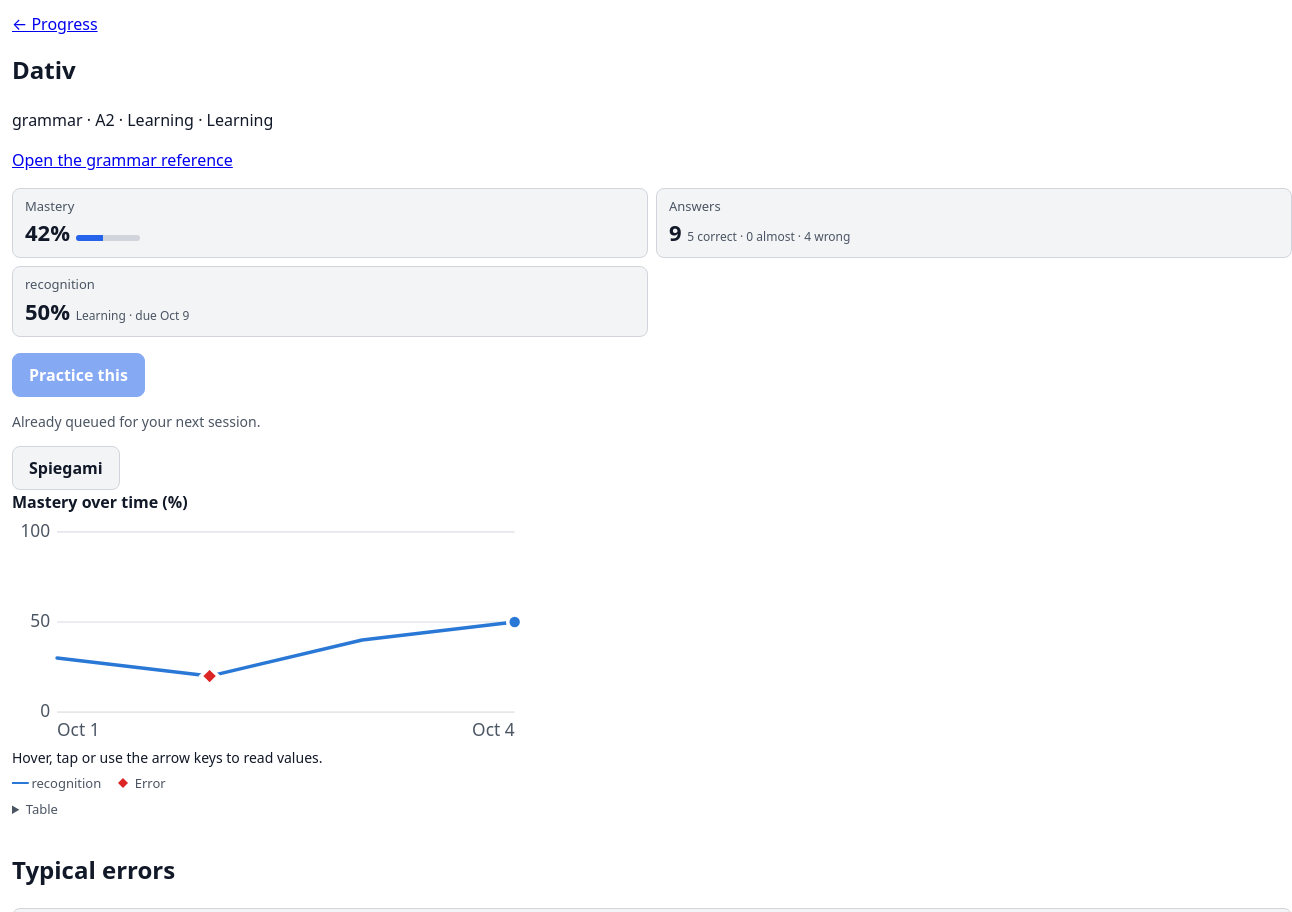
progress item detail › explains grammar without a mistake through the grammar endpoint and shows a queued state
Click the button "Spiegami" at (66,468), box [12,446,120,490]
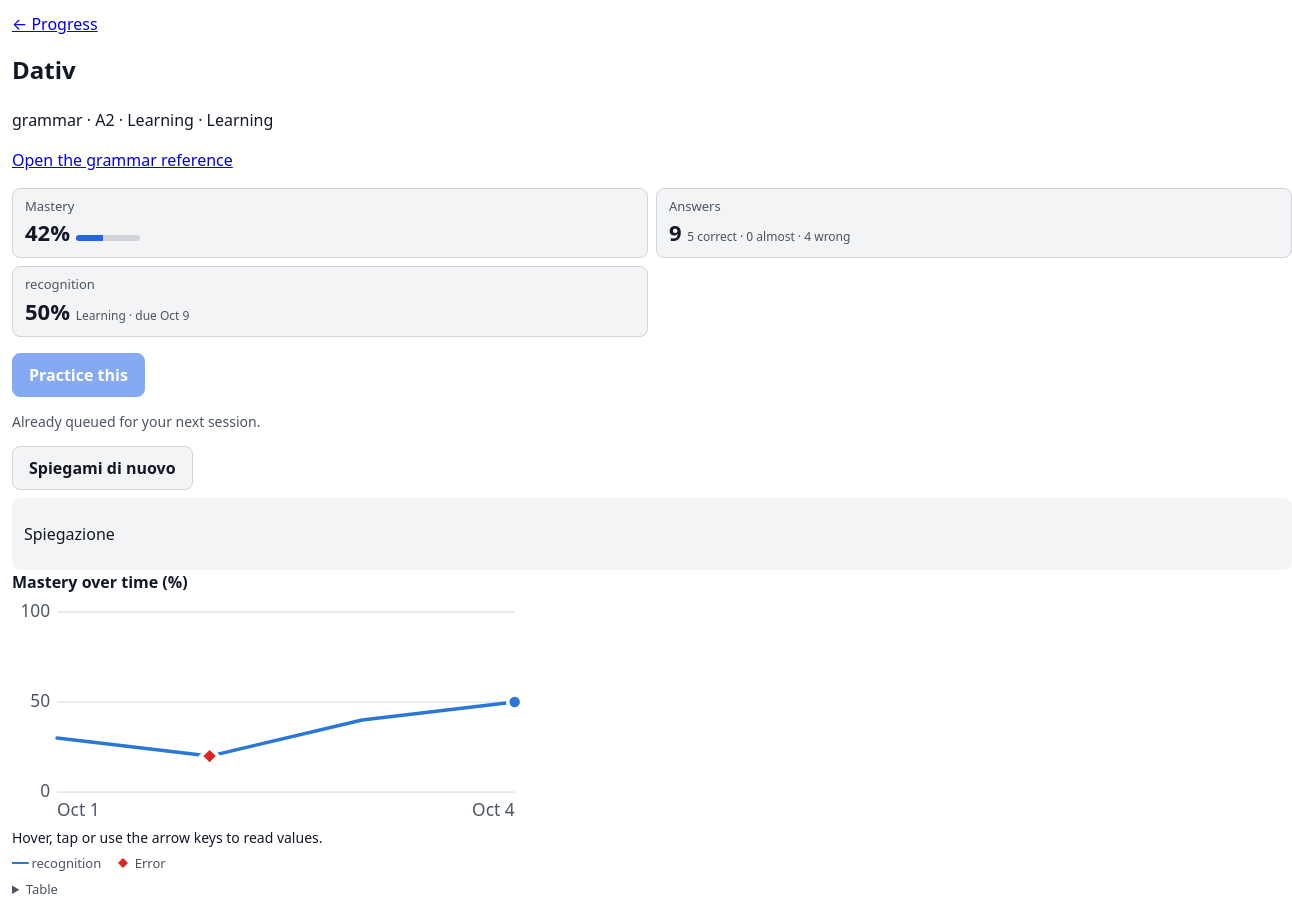
Check: the button "Practice this" is disabled, box [12,353,145,397]
Check: the text "Spiegazione" is shown, box [24,523,115,545]
